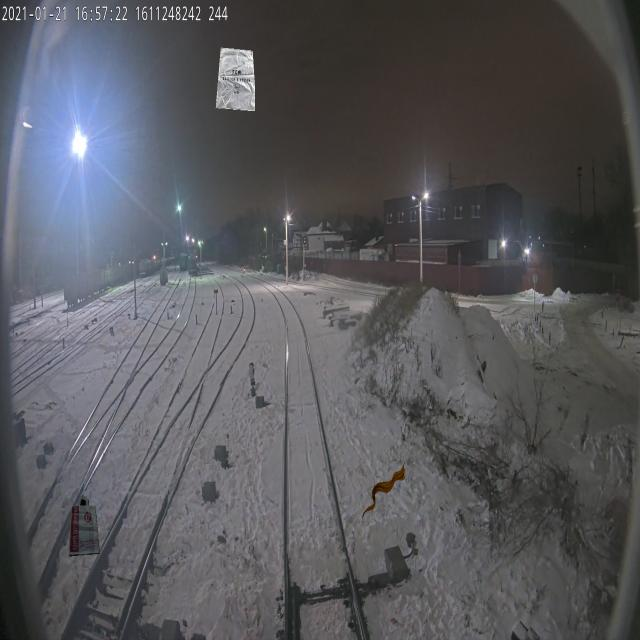floating object: (362, 458, 406, 522)
plastic bag: (216, 47, 255, 111), (68, 493, 100, 557)
